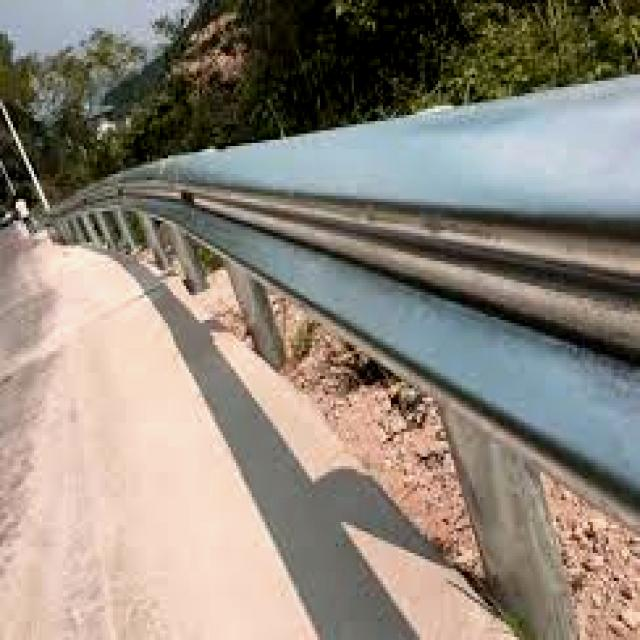Guard rail: (62, 76, 640, 497)
